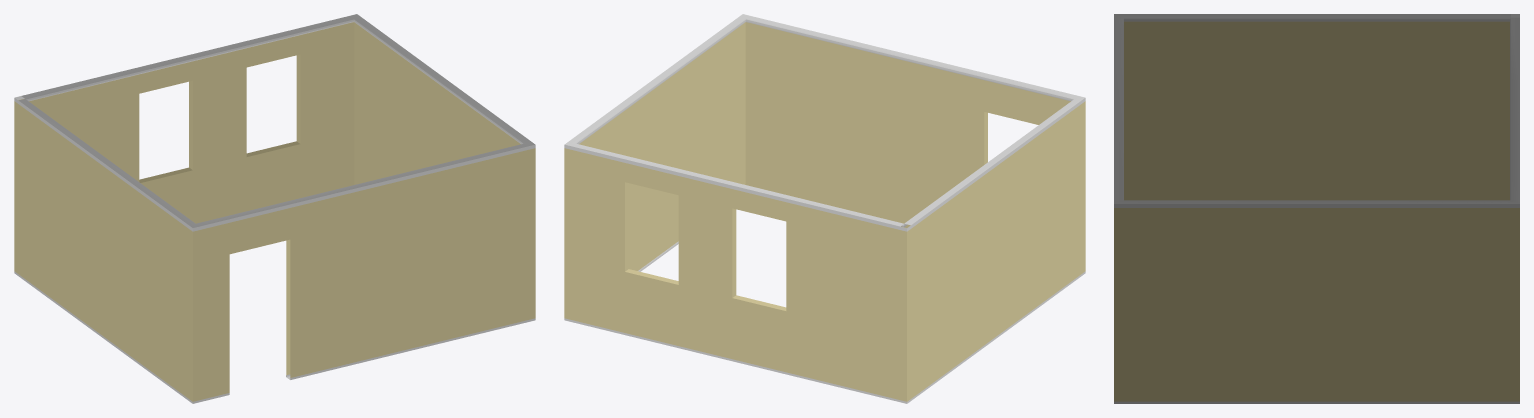
File: FP206:StandardWallSize_a25b5ec1.obj
3 views of the same model, side by side, from view 1: azimuth 30°, elevation 25°; view 2: azimuth 150°, elevation 25°; view 3: azimuth 270°, elevation 25° (orthographic). The views are drawn at different scales.
Visible parts, largest first — view 1: FP206:StandardWallSize_a25b5ec1; view 2: FP206:StandardWallSize_a25b5ec1; view 3: FP206:StandardWallSize_a25b5ec1.
Part boxes in pixels (box(x1,y1,x2,y2)): FP206:StandardWallSize_a25b5ec1: box(14, 14, 535, 403); FP206:StandardWallSize_a25b5ec1: box(564, 14, 1085, 403); FP206:StandardWallSize_a25b5ec1: box(1114, 14, 1519, 403).
Size of the model in its own units: 5.1 by 2.5 by 4.6.
